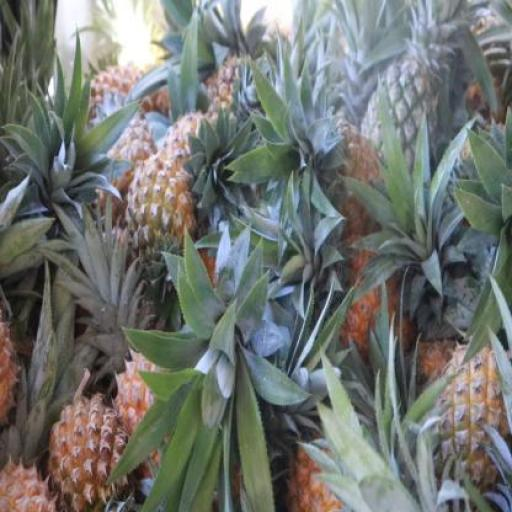------------------------------: (428, 347, 511, 500), (127, 150, 194, 284)
Pineapple - v8 v1: (49, 394, 126, 512)
